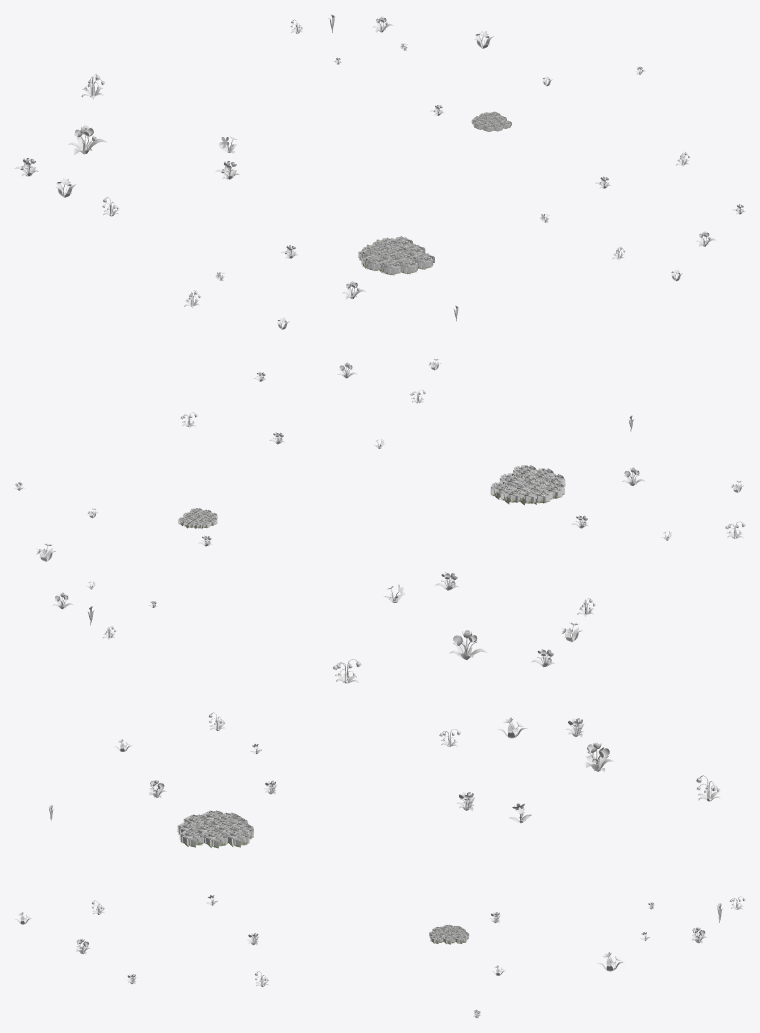
The model's file is Plantas.fbx.
The picture shows the model from 3 angles, top to bottom: view 1: azimuth 30°, elevation 25°; view 2: azimuth 150°, elevation 25°; view 3: azimuth 270°, elevation 25°; orthographic projection. The views are drawn at different scales.
Visible parts, largest first — view 1: Plane.048_0.015, Plane.048_0.001; view 2: Plane.048_0.015, Plane.048_0.001; view 3: Plane.048_0.015, Plane.048_0.001, Cylinder.010_lowPoly_flor32_0.002.
Part boxes in pixels (bbox=[...]): Plane.048_0.015: bbox=[358, 236, 434, 275]; Plane.048_0.001: bbox=[471, 111, 511, 131]; Plane.048_0.015: bbox=[490, 465, 565, 505]; Plane.048_0.001: bbox=[178, 508, 217, 528]; Plane.048_0.015: bbox=[177, 810, 253, 848]; Plane.048_0.001: bbox=[429, 924, 469, 944]; Cylinder.010_lowPoly_flor32_0.002: bbox=[584, 742, 613, 772].
Bounding box in the file's own units: 3086 × 141 × 3253.
Materials: 20 (13 with a texture image).
